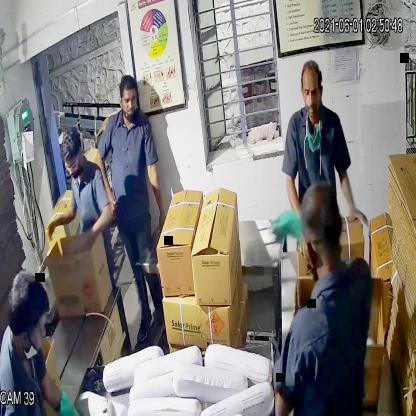goggles: (60, 152, 85, 178)
no_goggles: (296, 80, 327, 106), (116, 89, 142, 111)
